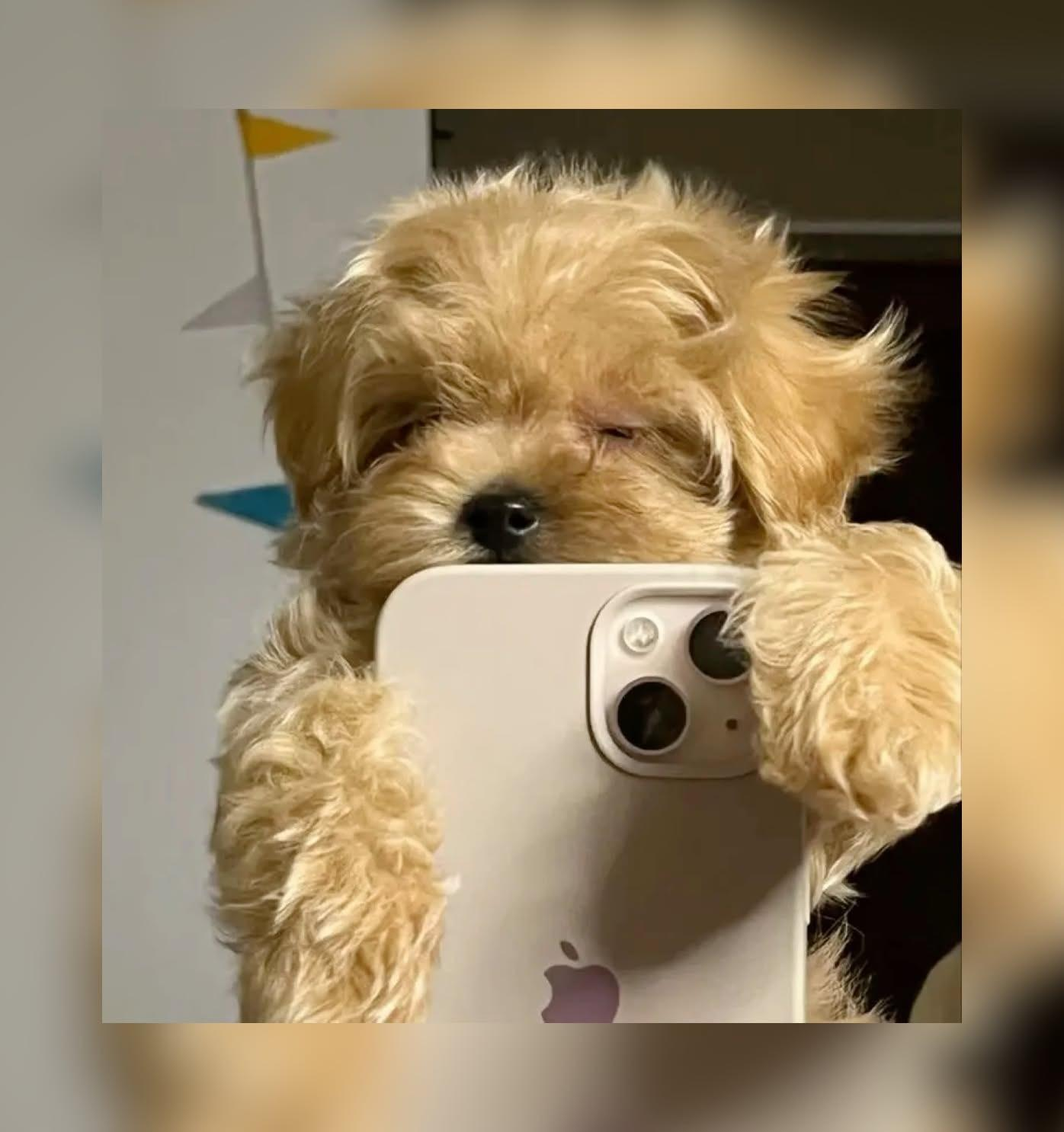puppy-dog: (205, 153, 965, 1025)
